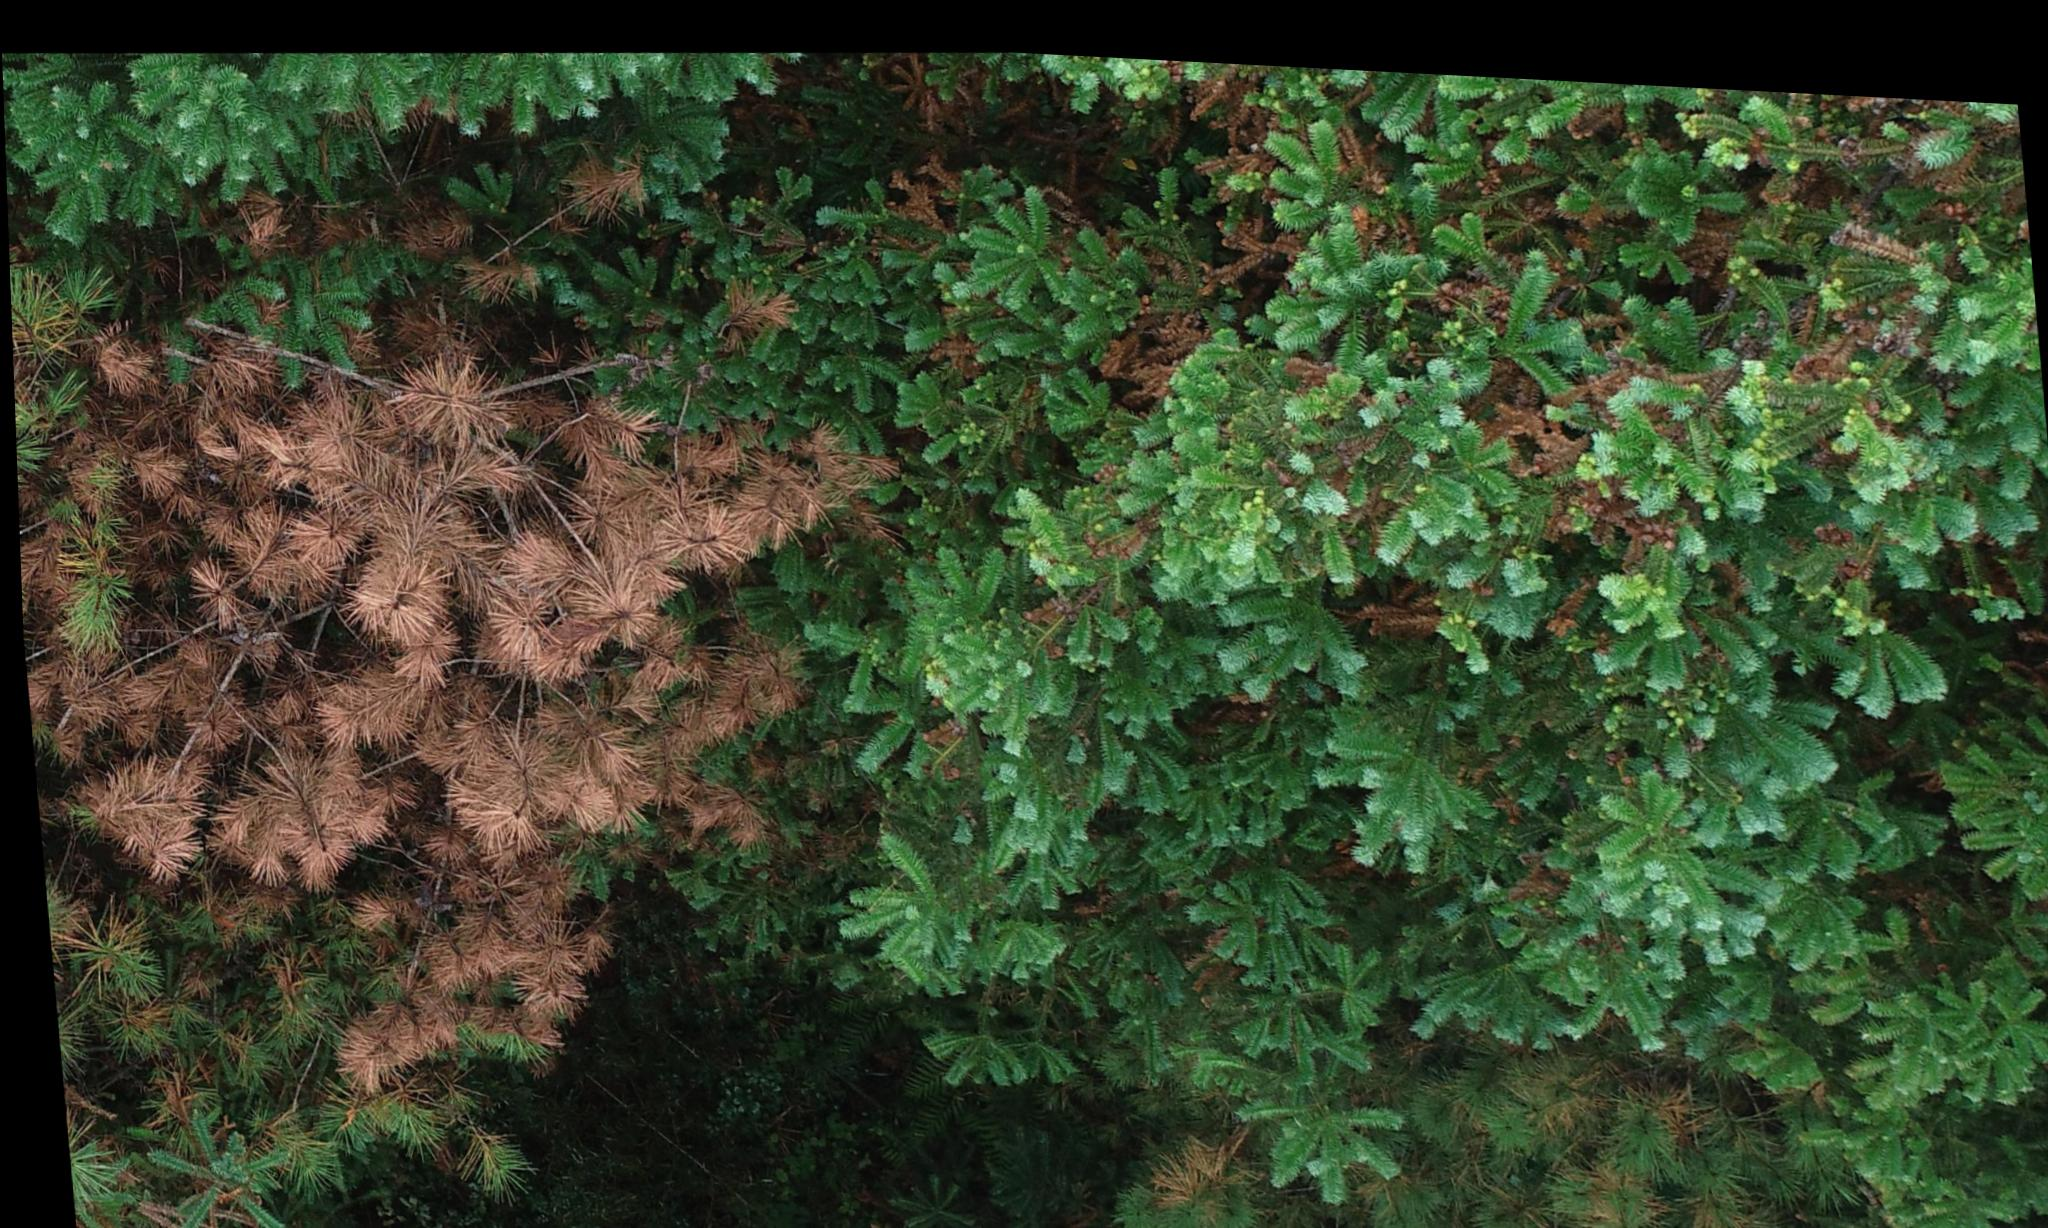heavy: (4, 124, 930, 1162)
light: (1061, 44, 2019, 769)
